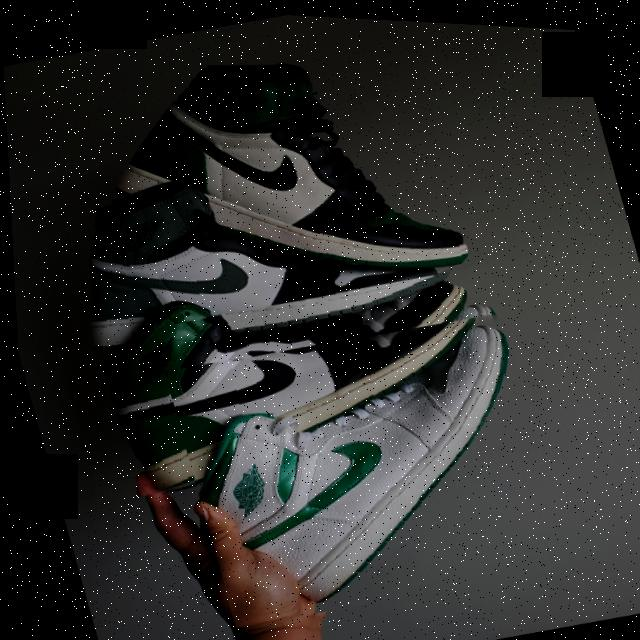shoe: (74, 3, 516, 341), (157, 290, 574, 639), (43, 226, 533, 523), (39, 108, 477, 390)
